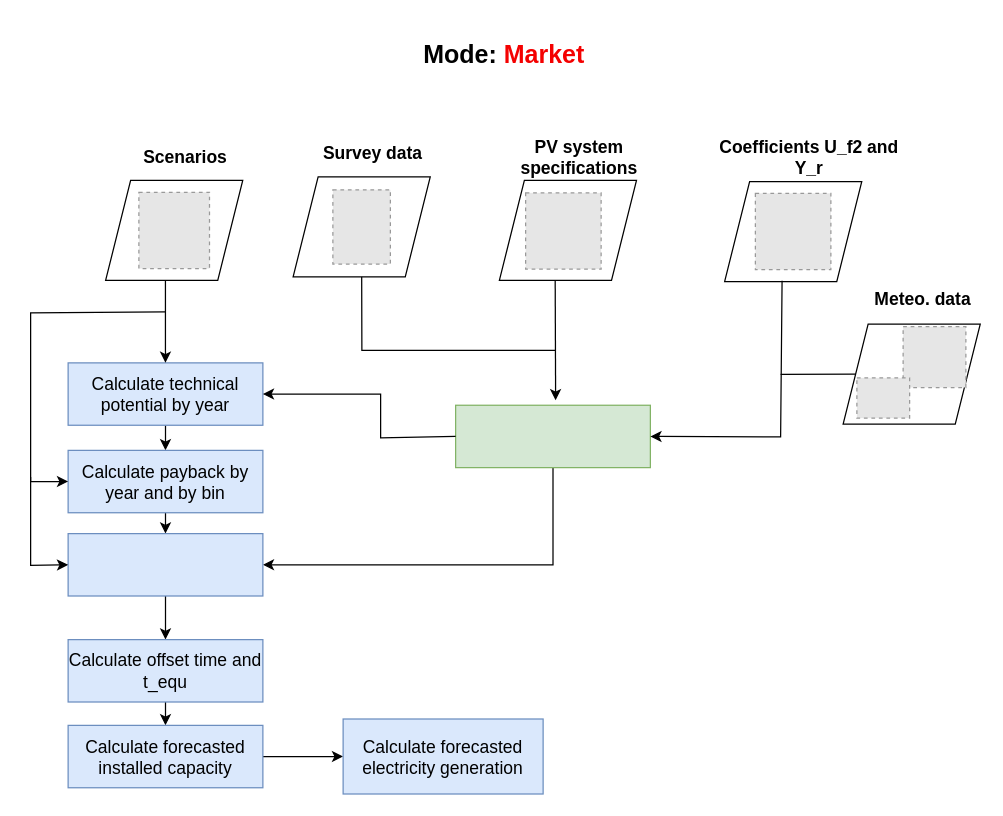
Some shapes in this 1003 by 816 pixel diagram are drawn without their labels. Grey dashed boxes stand in for pictures. Each missing label, with the centre of its shape:
"Calculate market potential" belongs at (x=165, y=564).
"Calculate technical potential by bin" belongs at (x=552, y=436).
